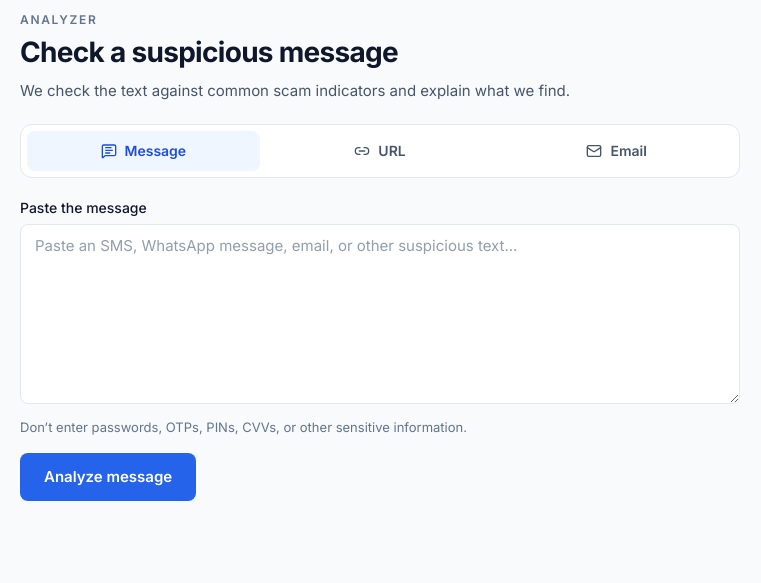
Test: analyzer page › offline backend shows connectivity message
Type "hello" into the text box at (380, 314), box [20,224,740,404]
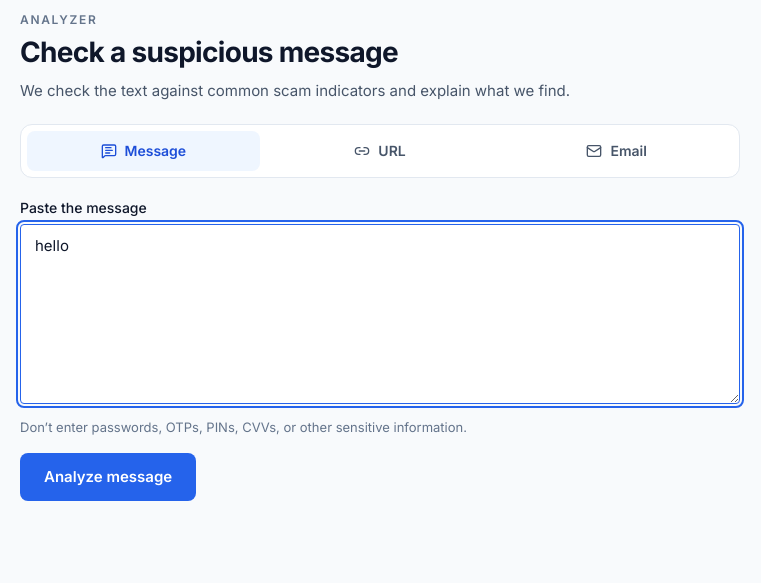
Click the button "Analyze message" at (108, 477), box [20,453,196,501]
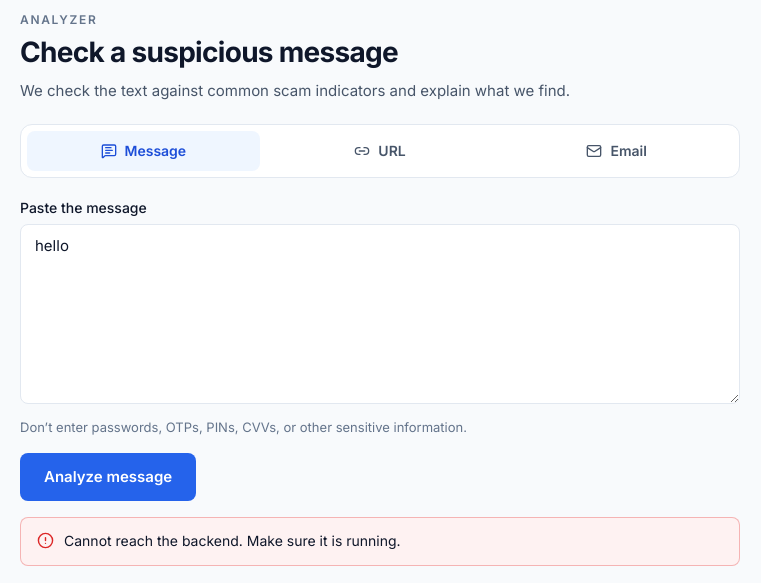
Expected: the text "Cannot reach the backend. Make sure it is running." is shown, [64,530,401,553]
